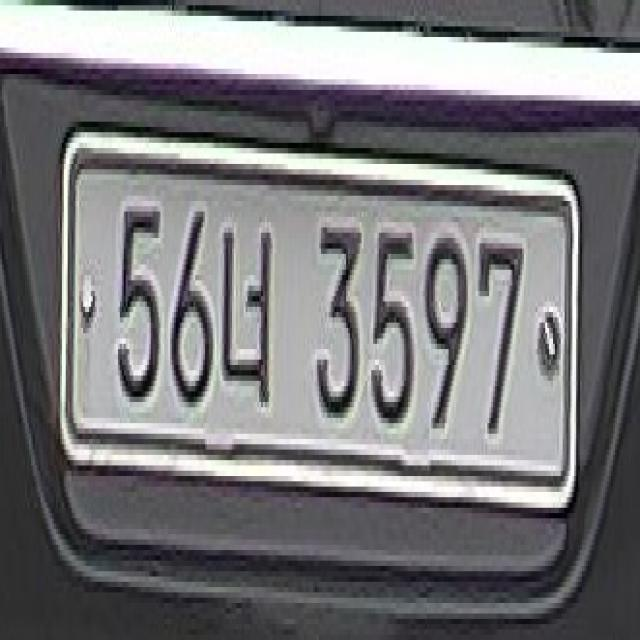3: (312, 208, 362, 430)
5: (367, 209, 416, 434), (111, 187, 161, 406)
6: (164, 192, 214, 408)
7: (476, 213, 528, 442)
9: (420, 214, 470, 437)
license_plate: (55, 112, 583, 525)
neo: (220, 209, 276, 416)
